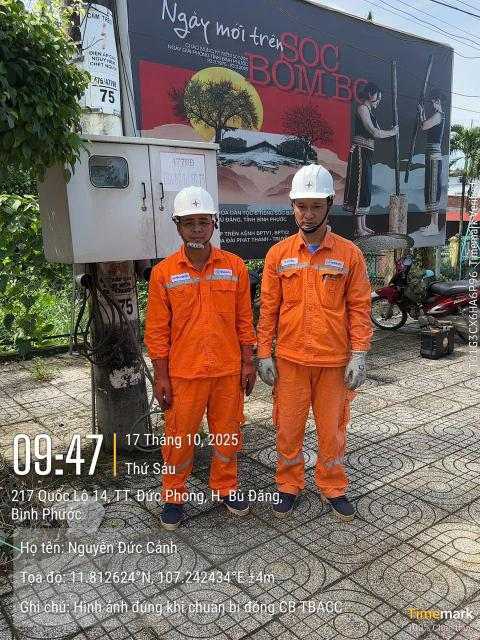gloves: (146, 355, 179, 411), (234, 342, 261, 385), (342, 353, 371, 393), (256, 353, 282, 391)
helmet: (283, 159, 342, 205), (169, 186, 223, 224)
shoes: (318, 488, 360, 524), (148, 496, 191, 527), (214, 483, 253, 517), (261, 492, 306, 518)
